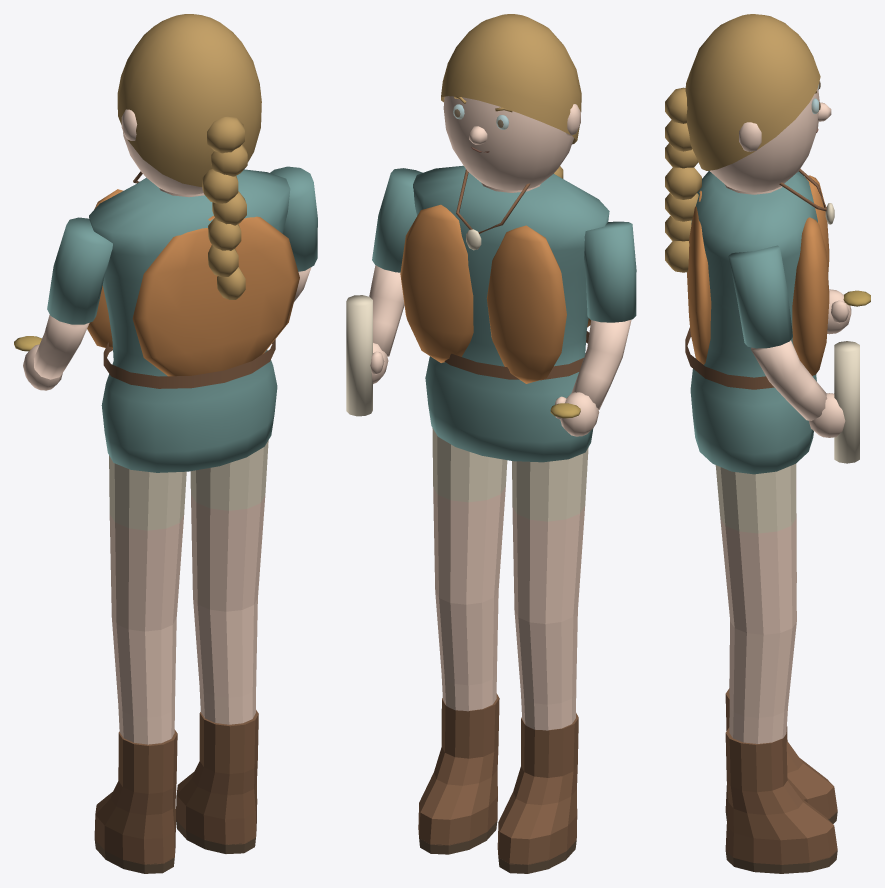
The model's file is SM_NPC_CORAL.glb.
3 renders of one model, left to right at view 1: azimuth 30°, elevation 25°; view 2: azimuth 150°, elevation 25°; view 3: azimuth 270°, elevation 25°, orthographic. The views are drawn at different scales.
Visible parts, largest first — view 1: SM_NPC_CORAL_BODY, SM_NPC_CORAL_LEG_L, SM_NPC_CORAL_LEG_R, SM_NPC_CORAL_HAIR, SM_NPC_CORAL_ARM_L, SM_NPC_CORAL_ARM_R, SM_NPC_CORAL_HEAD; view 2: SM_NPC_CORAL_BODY, SM_NPC_CORAL_LEG_L, SM_NPC_CORAL_LEG_R, SM_NPC_CORAL_HAIR, SM_NPC_CORAL_ARM_L, SM_NPC_CORAL_ARM_R, SM_NPC_CORAL_HEAD; view 3: SM_NPC_CORAL_BODY, SM_NPC_CORAL_LEG_R, SM_NPC_CORAL_HAIR, SM_NPC_CORAL_ARM_R, SM_NPC_CORAL_HEAD, SM_NPC_CORAL_LEG_L, SM_NPC_CORAL_ARM_L.
Boxes of the visible parts, x1,y1,x2,y2 form: SM_NPC_CORAL_BODY: (87, 169, 299, 472); SM_NPC_CORAL_LEG_L: (94, 455, 186, 873); SM_NPC_CORAL_LEG_R: (176, 440, 268, 853); SM_NPC_CORAL_HAIR: (117, 14, 261, 299); SM_NPC_CORAL_ARM_L: (14, 217, 112, 390); SM_NPC_CORAL_ARM_R: (270, 166, 317, 301); SM_NPC_CORAL_HEAD: (121, 92, 260, 194); SM_NPC_CORAL_BODY: (400, 165, 609, 462); SM_NPC_CORAL_LEG_L: (497, 447, 588, 873); SM_NPC_CORAL_LEG_R: (418, 428, 507, 854); SM_NPC_CORAL_HAIR: (441, 14, 581, 178); SM_NPC_CORAL_ARM_L: (550, 221, 636, 436); SM_NPC_CORAL_ARM_R: (346, 168, 422, 416); SM_NPC_CORAL_HEAD: (443, 96, 580, 190); SM_NPC_CORAL_BODY: (685, 169, 834, 474); SM_NPC_CORAL_LEG_R: (715, 464, 837, 873); SM_NPC_CORAL_HAIR: (665, 14, 820, 272); SM_NPC_CORAL_ARM_R: (728, 245, 859, 463); SM_NPC_CORAL_HEAD: (710, 87, 831, 192); SM_NPC_CORAL_LEG_L: (725, 463, 837, 823); SM_NPC_CORAL_ARM_L: (827, 289, 870, 334).
Bounding box in the file's own units: 0.6003 × 1.81 × 0.4113.
